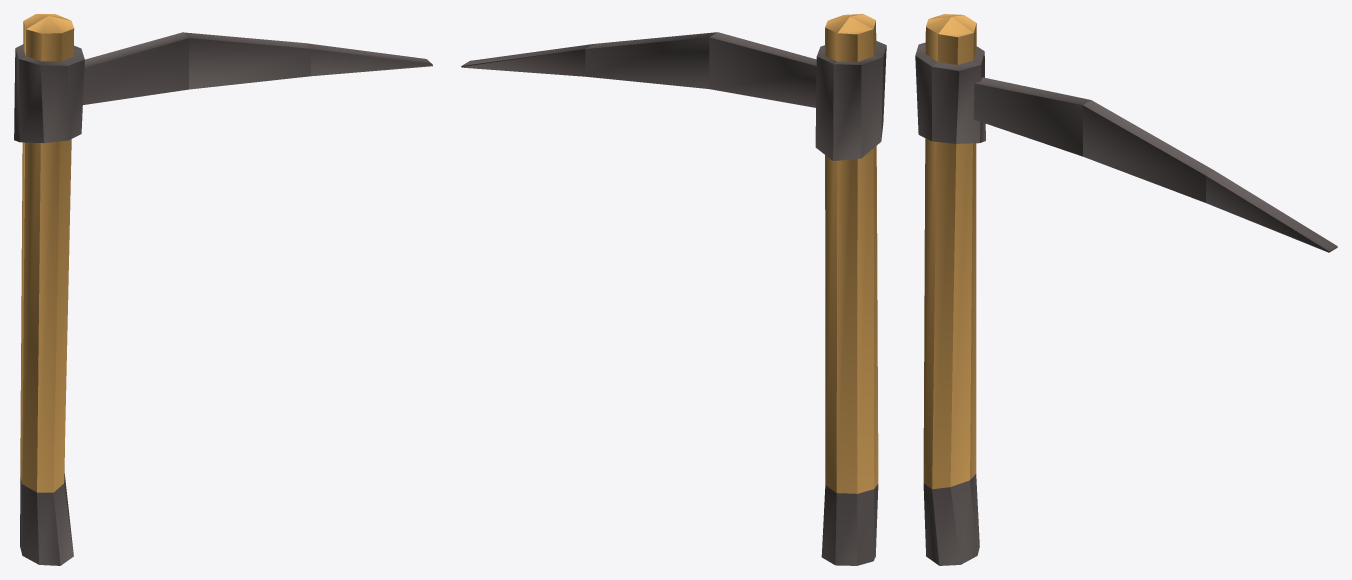
File: Pickaxe.fbx
3 renders of one model, left to right at view 1: azimuth 30°, elevation 25°; view 2: azimuth 150°, elevation 25°; view 3: azimuth 330°, elevation 25°, orthographic.
Parts seen in each view (by area): view 1: Pickaxe; view 2: Pickaxe; view 3: Pickaxe.
Part boxes in pixels (x1,y1,x2,y2): Pickaxe: [14, 14, 432, 565]; Pickaxe: [461, 14, 886, 565]; Pickaxe: [915, 14, 1337, 565].
Bounding box in the file's own units: 63.73 × 79.95 × 9.81.
